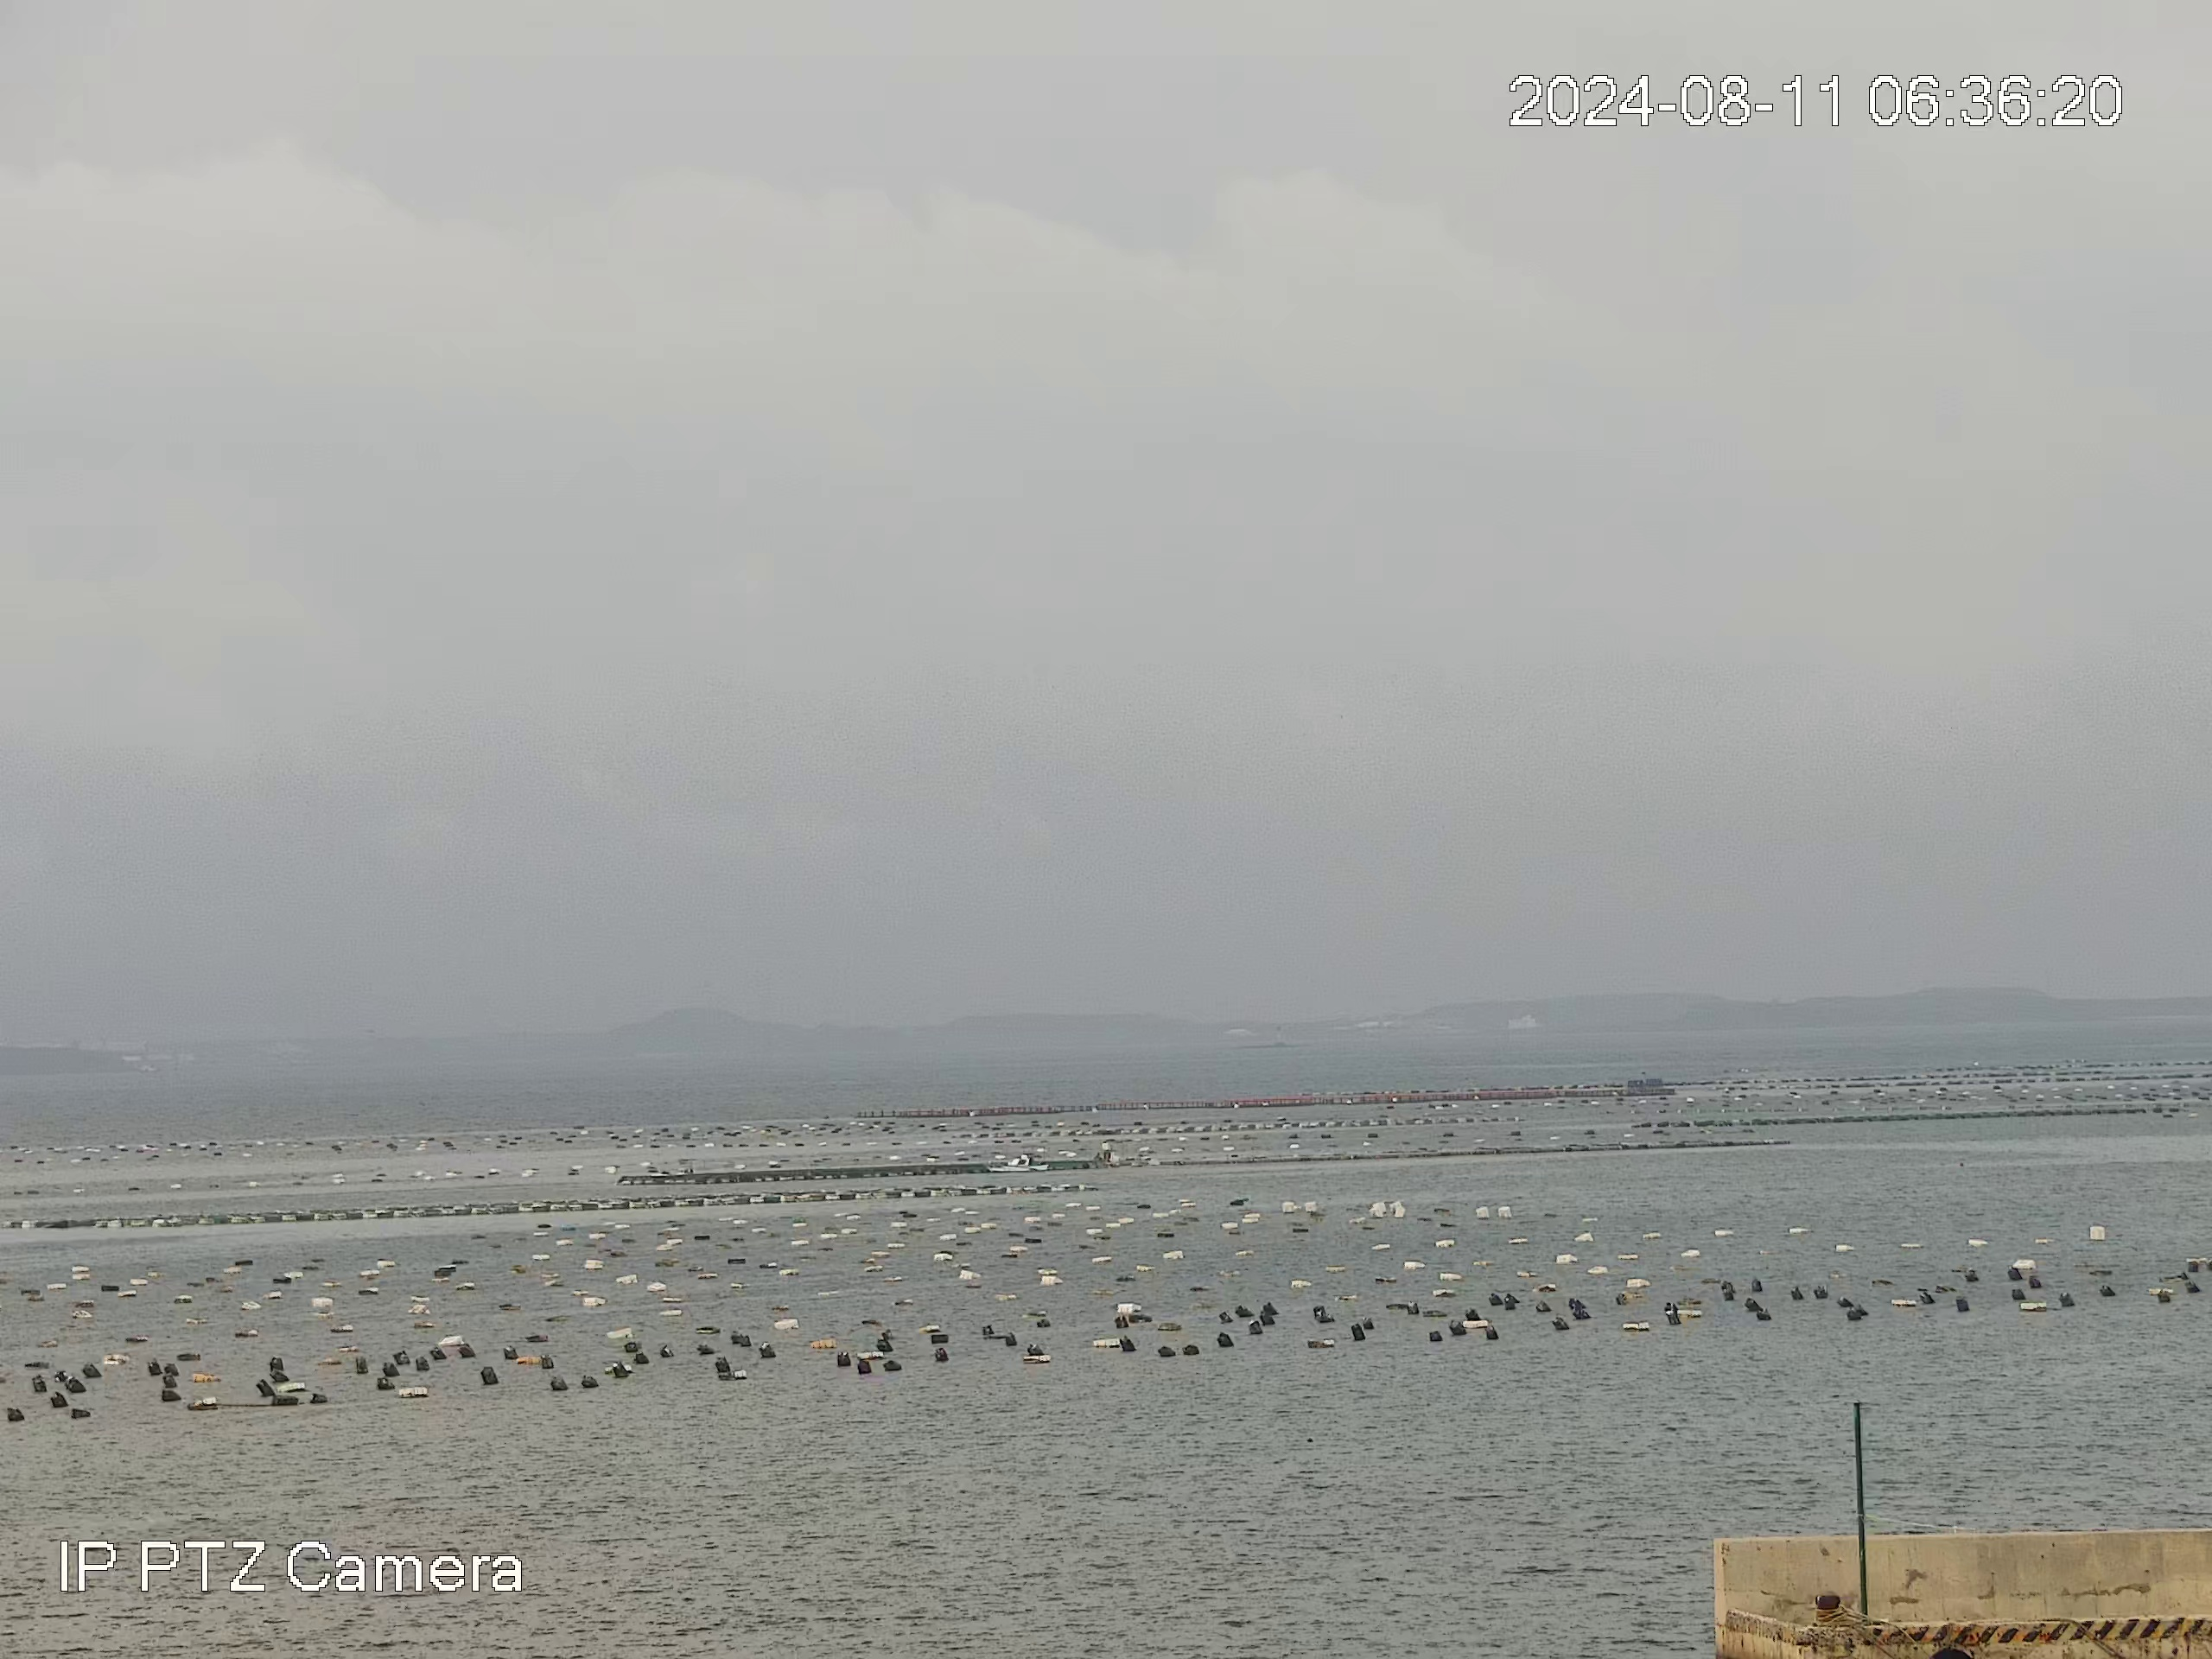boat: (982, 1152, 1052, 1175)
